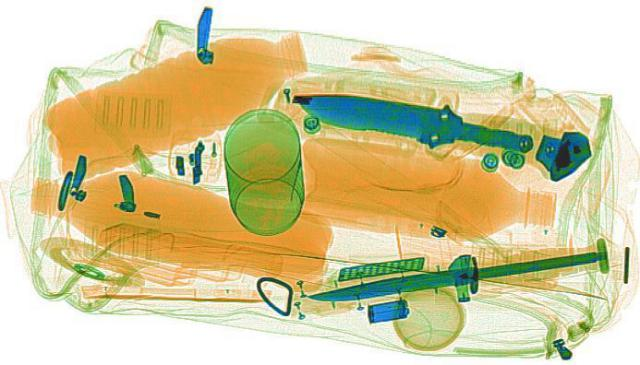Knife: (298, 237, 620, 313), (276, 76, 546, 163)
